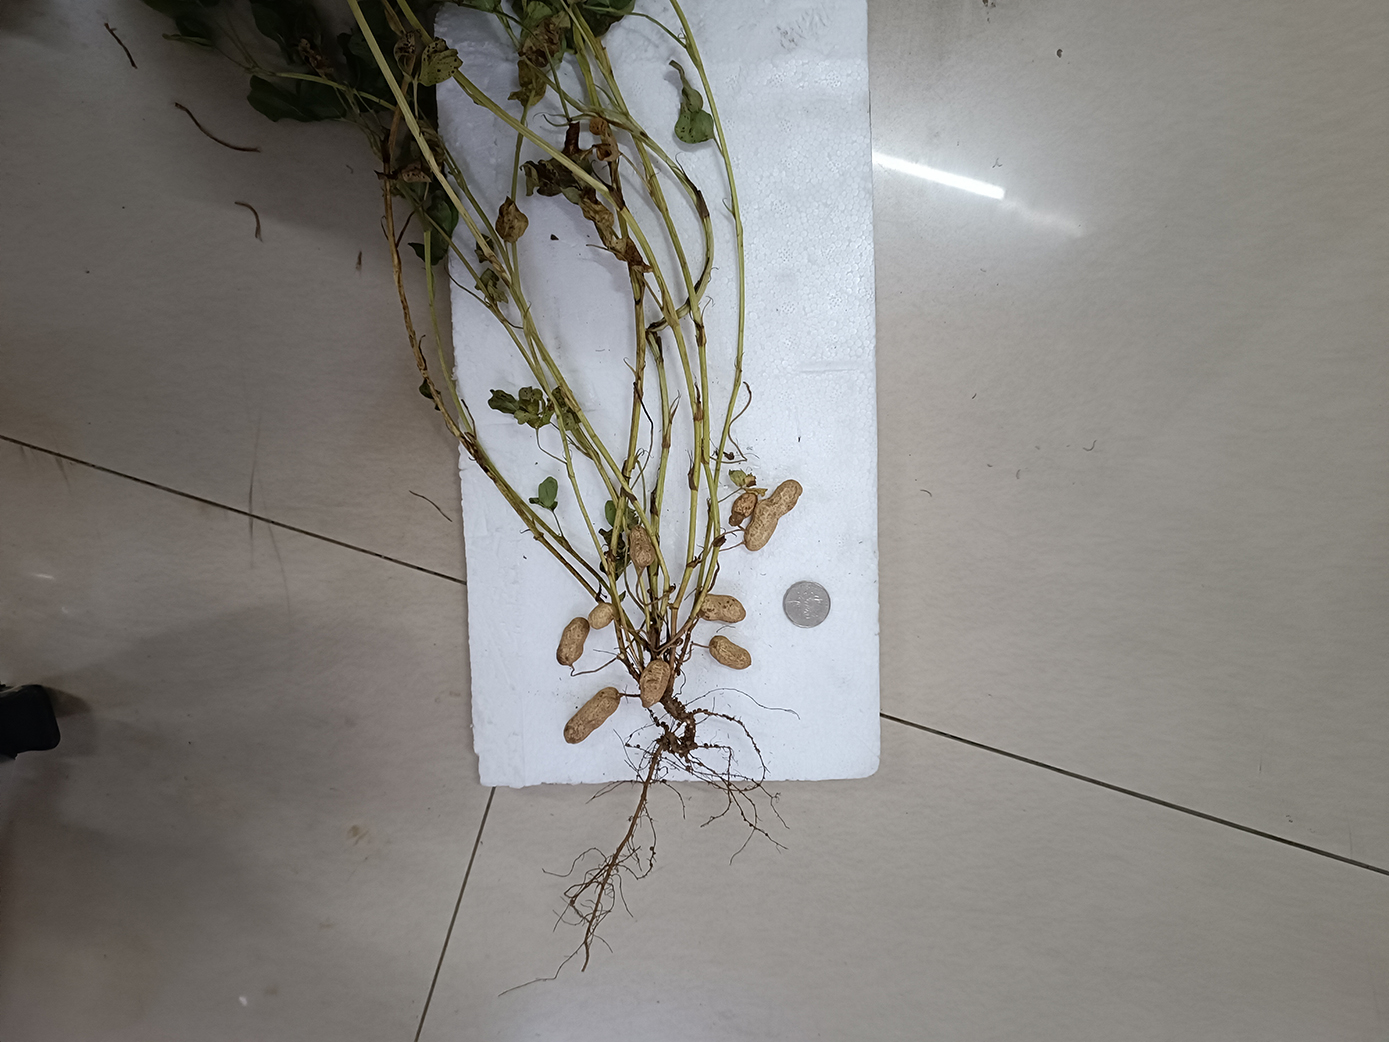h: (744, 481, 805, 549), (563, 686, 622, 744), (556, 617, 590, 665), (709, 636, 751, 670), (641, 660, 671, 707), (701, 594, 746, 623), (628, 524, 655, 566), (588, 603, 620, 629)
l: (728, 493, 756, 525)
